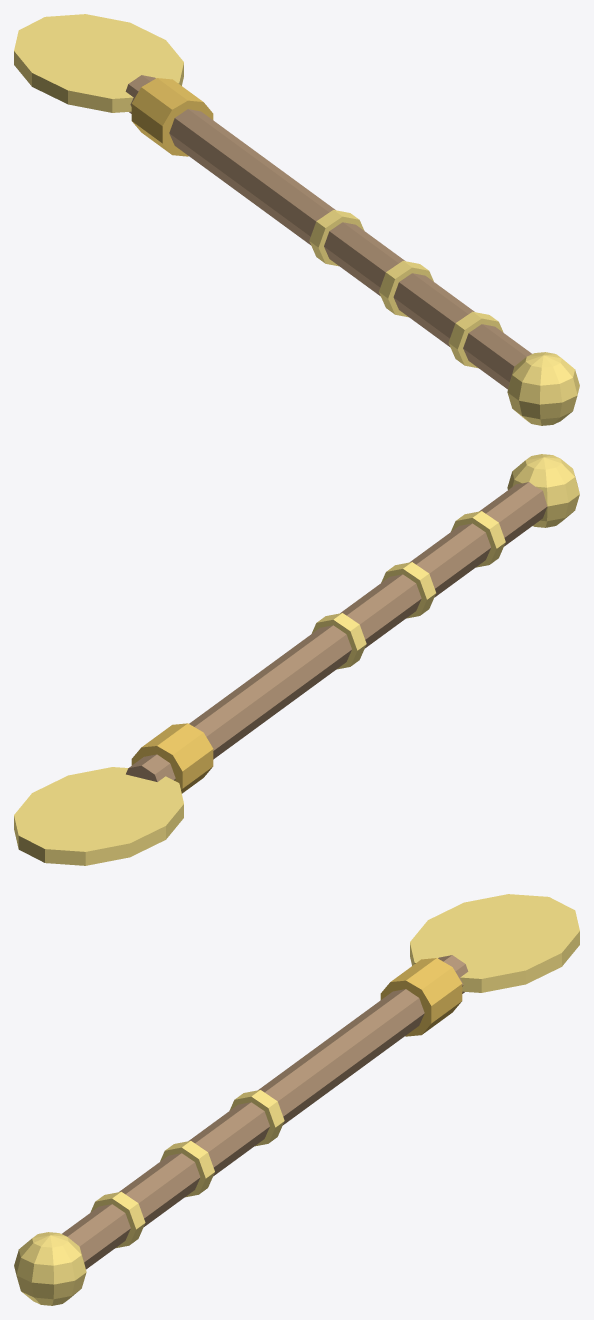
File: gold_shovel_held.gltf
3 renders of one model, top to bottom at view 1: azimuth 30°, elevation 25°; view 2: azimuth 150°, elevation 25°; view 3: azimuth 330°, elevation 25°, orthographic.
Parts seen in each view (by area): view 1: furnace_gold_shovel_held; view 2: furnace_gold_shovel_held; view 3: furnace_gold_shovel_held.
Part boxes in pixels (bbox=[...]): furnace_gold_shovel_held: bbox=[14, 14, 579, 425]; furnace_gold_shovel_held: bbox=[14, 454, 579, 865]; furnace_gold_shovel_held: bbox=[14, 894, 579, 1305].
Size of the model in its own units: 0.1 by 0.048 by 0.669.
